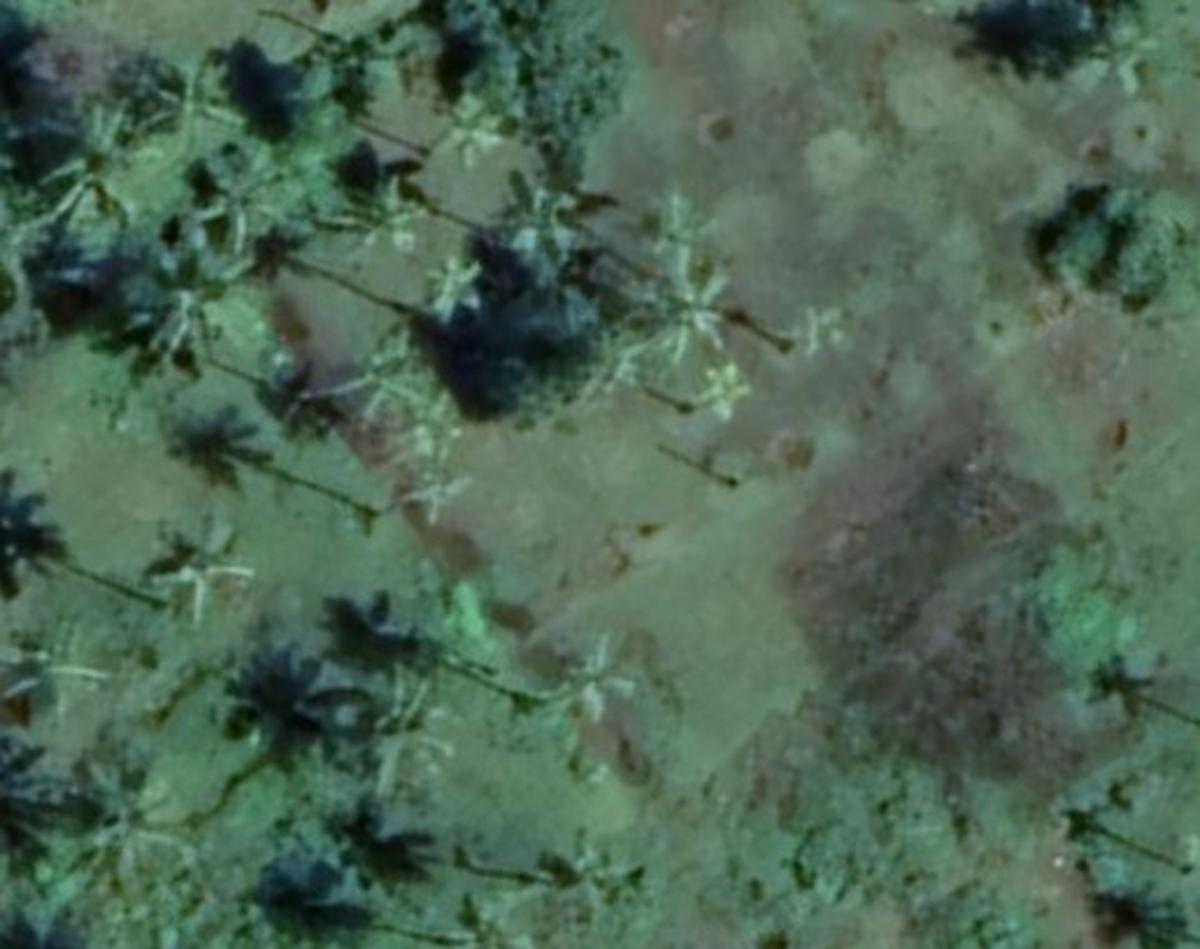coconut: (67, 753, 204, 853), (139, 507, 255, 625), (4, 607, 111, 725), (46, 97, 151, 211), (195, 146, 302, 244), (358, 662, 441, 788), (548, 630, 651, 728), (330, 323, 434, 418), (655, 246, 730, 367), (411, 246, 495, 327), (688, 346, 769, 427), (432, 90, 509, 172), (355, 169, 427, 255)
